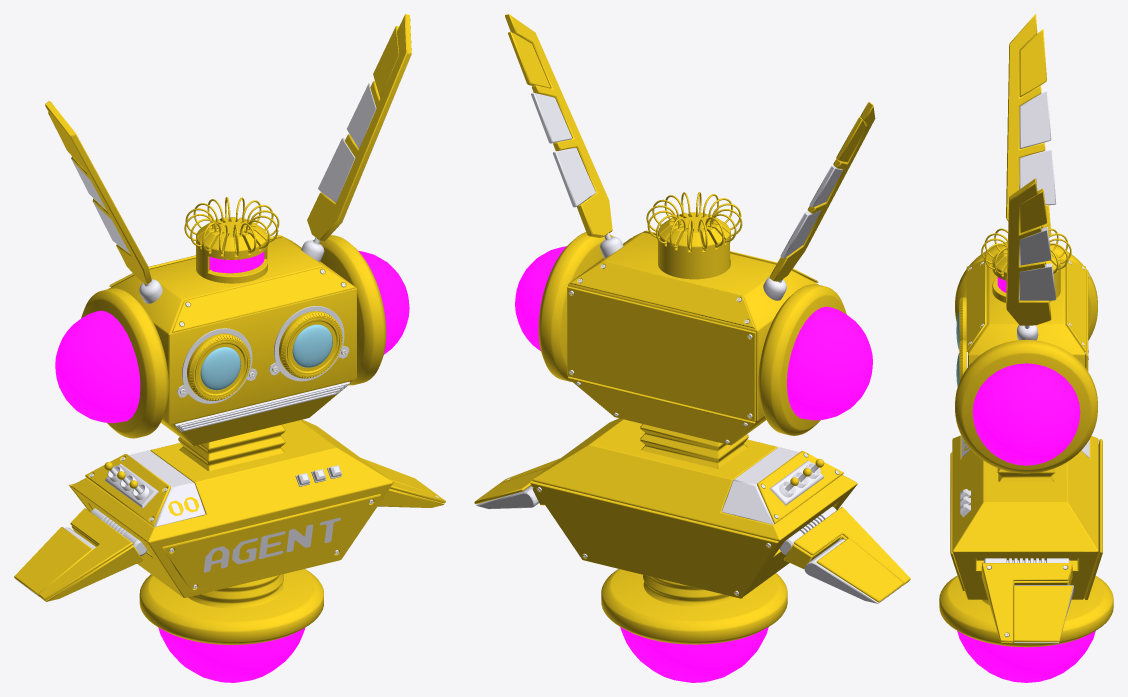
File: bee_bot3_gold.glb
3 views of the same model, side by side, from view 1: azimuth 30°, elevation 25°; view 2: azimuth 150°, elevation 25°; view 3: azimuth 270°, elevation 25° (orthographic). The views are drawn at different scales.
Visible parts, largest first — view 1: Cube.070; view 2: Cube.070; view 3: Cube.070.
Boxes of the visible parts, <box> form: Cube.070: <box>14,14,445,682</box>; Cube.070: <box>474,14,910,682</box>; Cube.070: <box>939,14,1113,682</box>.
Size of the model in its own units: 0.6986 by 1.02 by 0.278.
